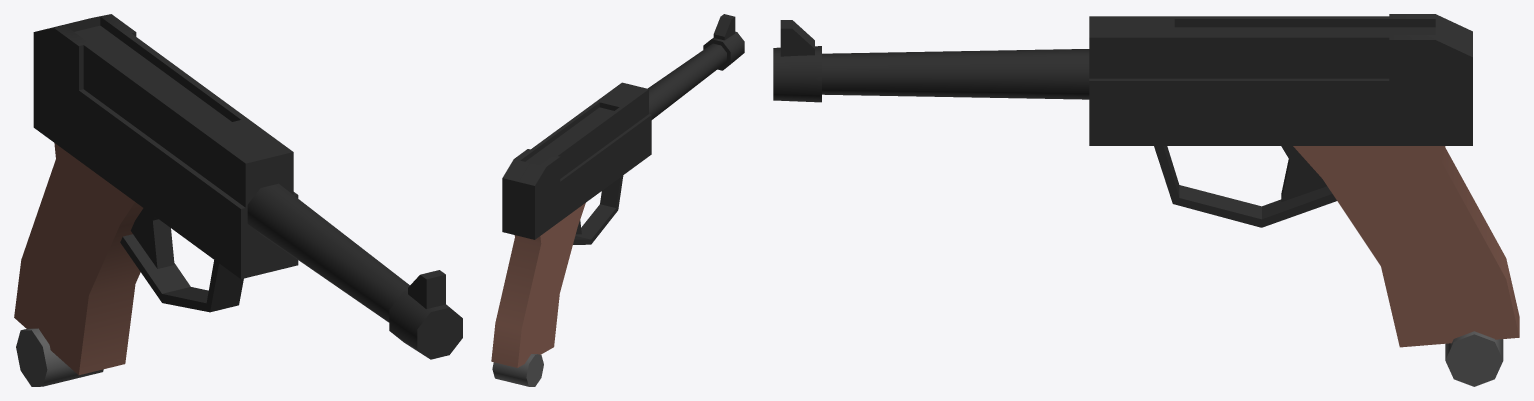
File: lugar.glb
3 renders of one model, left to right at view 1: azimuth 30°, elevation 25°; view 2: azimuth 150°, elevation 25°; view 3: azimuth 270°, elevation 25°, orthographic. The views are drawn at different scales.
Visible parts, largest first — view 1: Lugar Body_54, Lugar Body Magazine_53, Cube.011_52; view 2: Lugar Body_54, Lugar Body Magazine_53; view 3: Lugar Body_54, Lugar Body Magazine_53, Cube.011_52.
Boxes of the visible parts, x1,y1,x2,y2 form: Lugar Body_54: (14,14,462,375); Lugar Body Magazine_53: (16,328,103,386); Cube.011_52: (130,208,174,268); Lugar Body_54: (491,14,744,367); Lugar Body Magazine_53: (492,354,543,386); Lugar Body_54: (773,14,1519,347); Lugar Body Magazine_53: (1445,331,1503,386); Cube.011_52: (1281,146,1326,201).
Size of the model in its own units: 0.0333 by 0.1991 by 0.3859.
